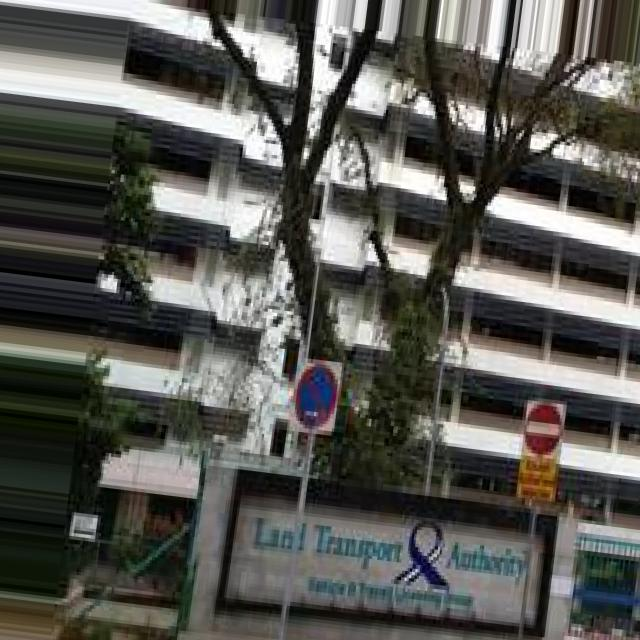forb_stopping: (296, 364, 337, 428)
